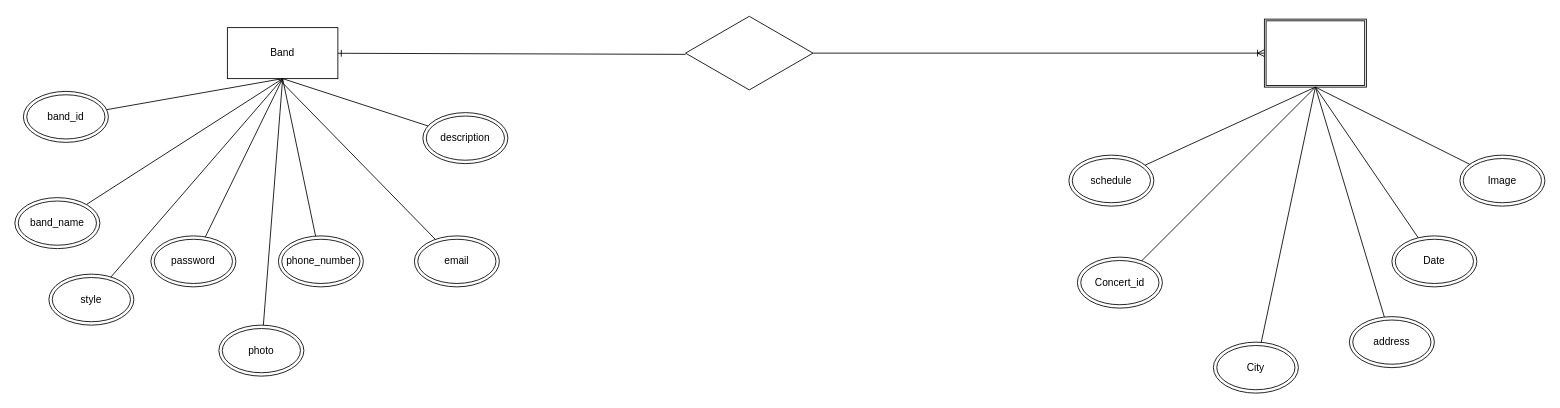
This 1560x408 diagram has some shape labels left out. The centre of each missing label's shape, as x and y in pixels:
"Concert" belongs at point (1315, 52).
"plays" belongs at point (749, 52).
